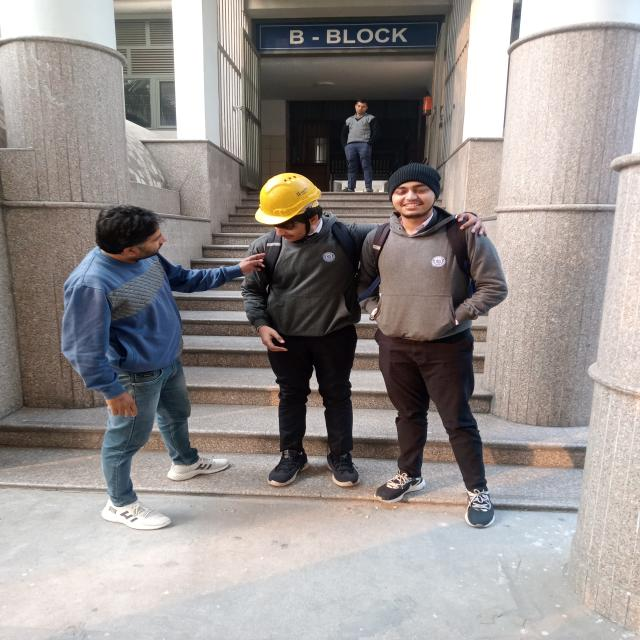no jacket: (241, 172, 368, 498)
unsafe: (56, 205, 241, 532), (364, 160, 520, 531), (335, 100, 387, 193)
